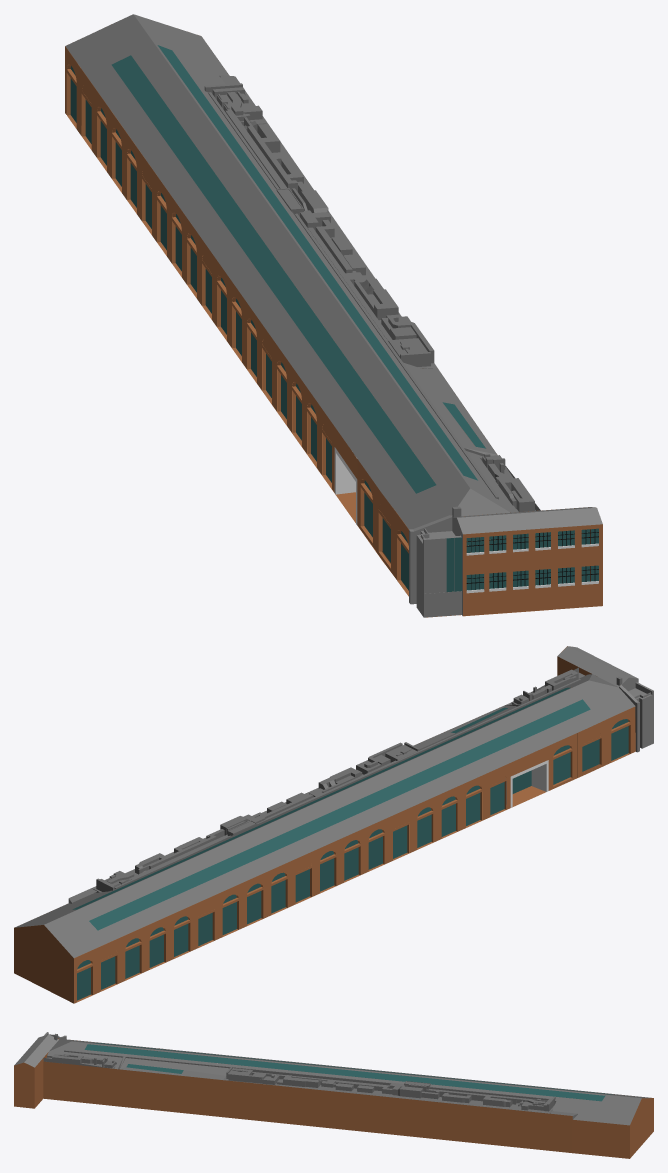
Rendered from WesternTransitShed.glb.
3 views of the same model, one above another, from view 1: azimuth 30°, elevation 25°; view 2: azimuth 150°, elevation 25°; view 3: azimuth 270°, elevation 25° (orthographic). The views are drawn at different scales.
Visible parts, largest first — view 1: Plane.001, Drop1, Plane.002; view 2: Plane.001, Drop1; view 3: Plane.001, Drop1.
Part boxes in pixels (x1,y1,x2,y2): Plane.001: (65,14,602,617); Drop1: (70,45,598,590); Plane.002: (463,524,602,615); Plane.001: (14,646,653,1003); Drop1: (72,687,628,998); Plane.001: (14,1032,653,1158); Drop1: (84,1043,612,1101).
Bounding box in the file's own units: 107 × 26.8 × 330.
